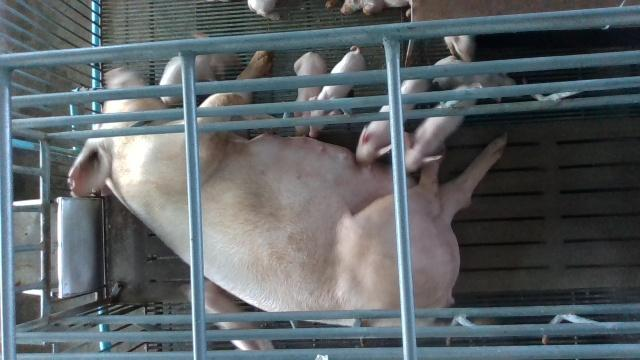piglet: (403, 84, 484, 173), (179, 280, 276, 351), (357, 80, 430, 165), (309, 46, 367, 138), (294, 52, 327, 136)
sow-sleep-lactate: (68, 65, 505, 327)
